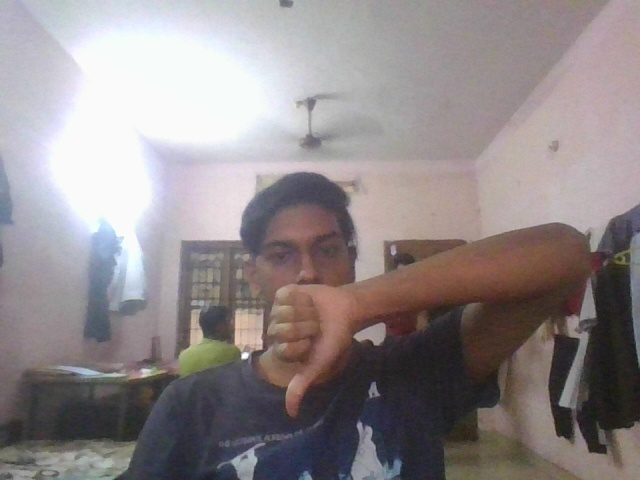thumbsdown: (266, 276, 363, 424)
